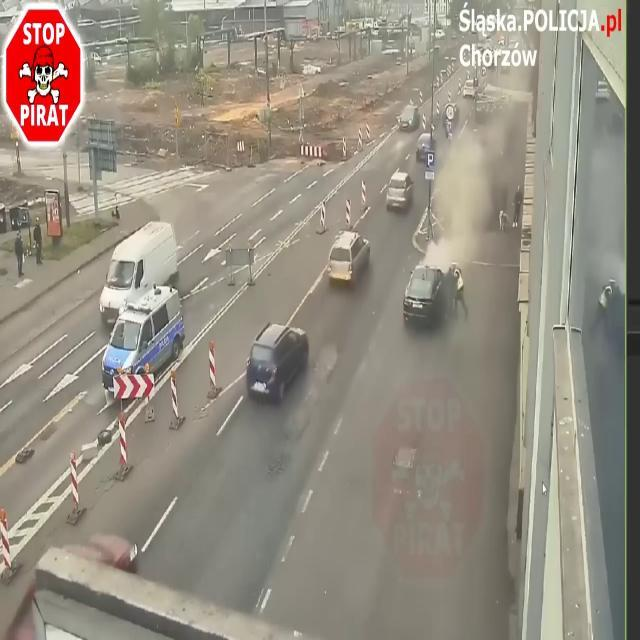Smoke: (565, 75, 627, 387), (433, 72, 527, 266)
